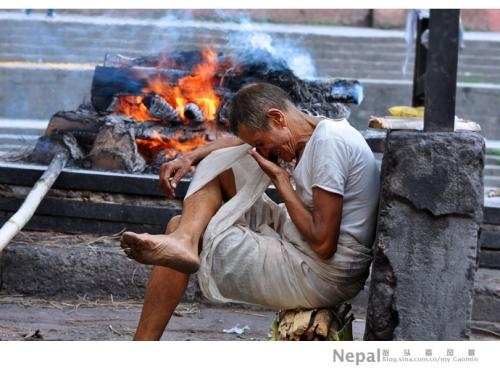fire: (115, 46, 226, 147)
